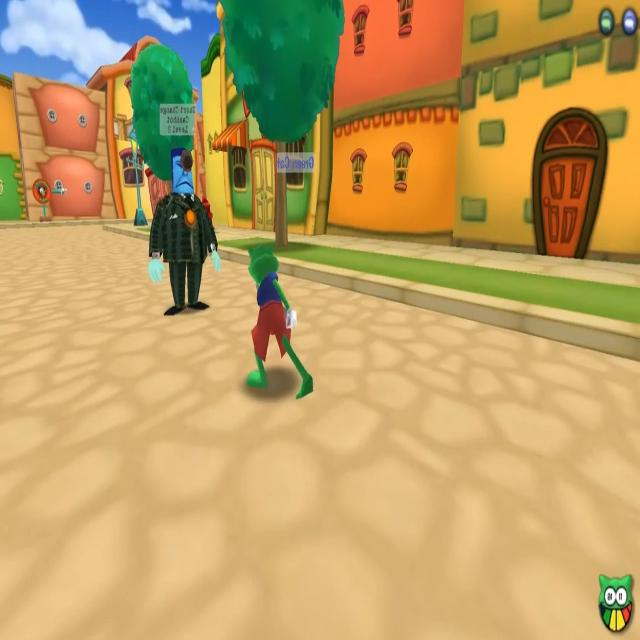shortchange: (141, 103, 222, 319)
